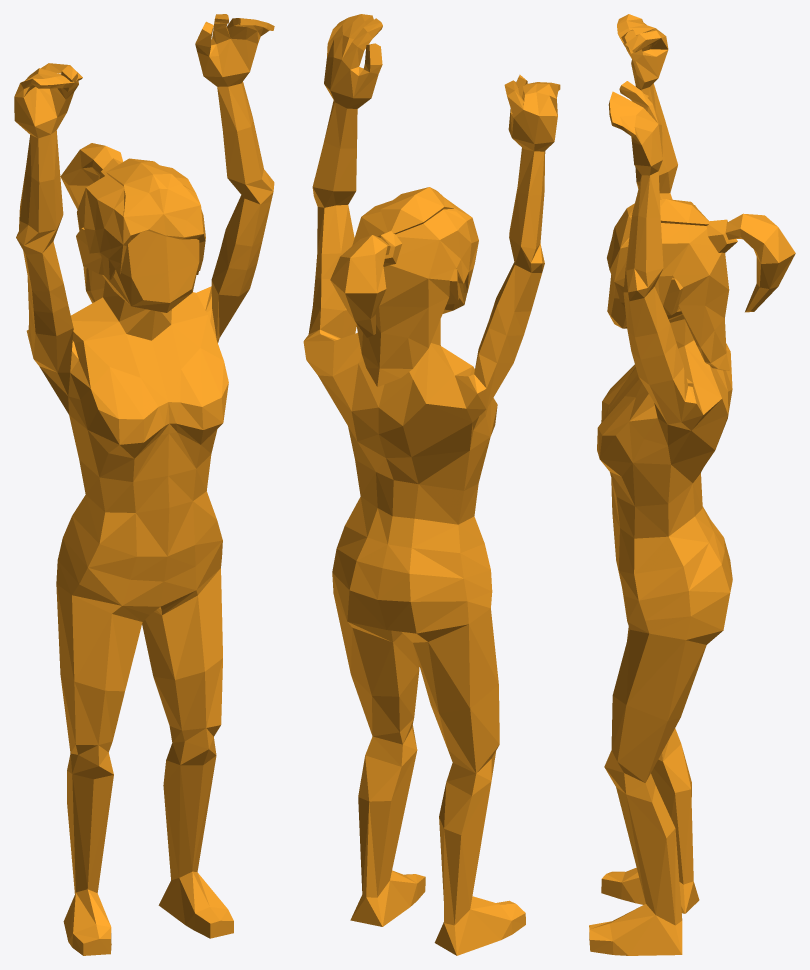
The model's file is SM_Pawn_Handsup_Female_01.fbx.
3 renders of one model, left to right at view 1: azimuth 30°, elevation 25°; view 2: azimuth 150°, elevation 25°; view 3: azimuth 270°, elevation 25°, orthographic. The views are drawn at different scales.
Visible parts, largest first — view 1: SM_Pawn_Handsup_Female_01; view 2: SM_Pawn_Handsup_Female_01; view 3: SM_Pawn_Handsup_Female_01.
Part boxes in pixels (box(x1,y1,x2,y2)): SM_Pawn_Handsup_Female_01: box(14, 14, 274, 955); SM_Pawn_Handsup_Female_01: box(303, 14, 560, 955); SM_Pawn_Handsup_Female_01: box(589, 14, 795, 955).
Bounding box in the file's own units: 64.3 × 218 × 46.79.
